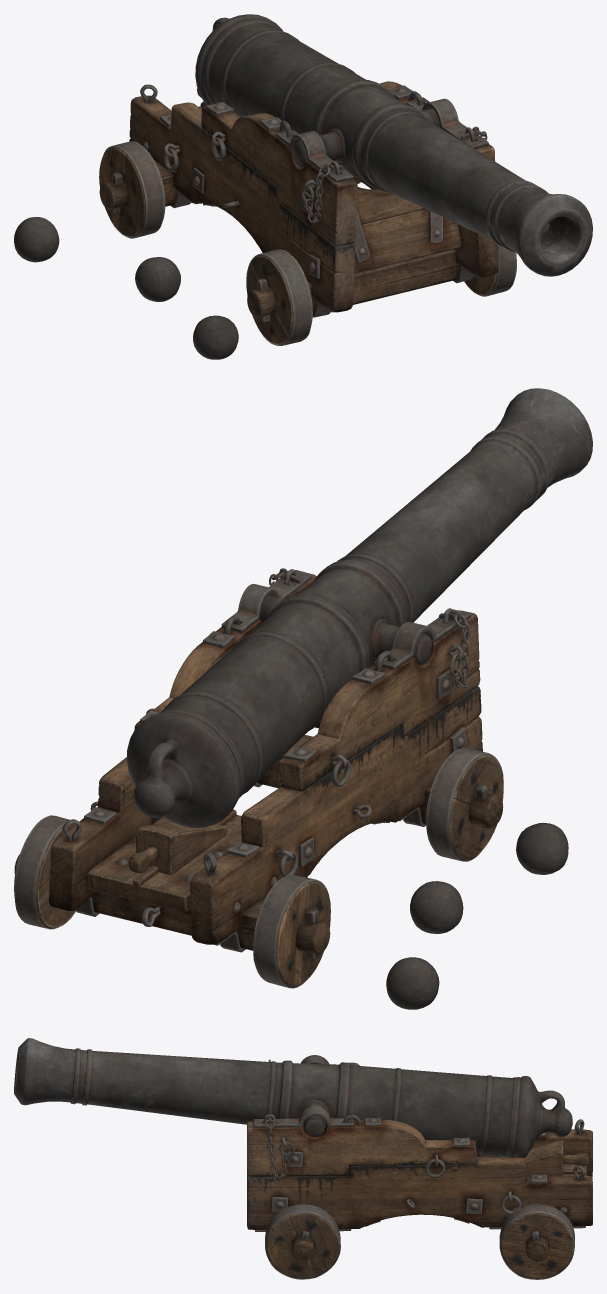
3 renders of one model, top to bottom at view 1: azimuth 30°, elevation 25°; view 2: azimuth 150°, elevation 25°; view 3: azimuth 270°, elevation 25°, orthographic. The views are drawn at different scales.
Parts seen in each view (by area): view 1: cannon_01_frame, cannon_01_barrel; view 2: cannon_01_frame, cannon_01_barrel; view 3: cannon_01_frame, cannon_01_barrel.
Boxes of the visible parts, x1=… form: cannon_01_frame: x1=14, y1=81, x2=516, y2=359; cannon_01_barrel: x1=195, y1=14, x2=592, y2=276; cannon_01_frame: x1=14, y1=568, x2=568, y2=1009; cannon_01_barrel: x1=126, y1=388, x2=592, y2=828; cannon_01_frame: x1=247, y1=1055, x2=592, y2=1279; cannon_01_barrel: x1=14, y1=1038, x2=572, y2=1158.
Bounding box in the file's own units: 1.28 × 0.8588 × 2.3.
Materials: 1 (1 with a texture image).
